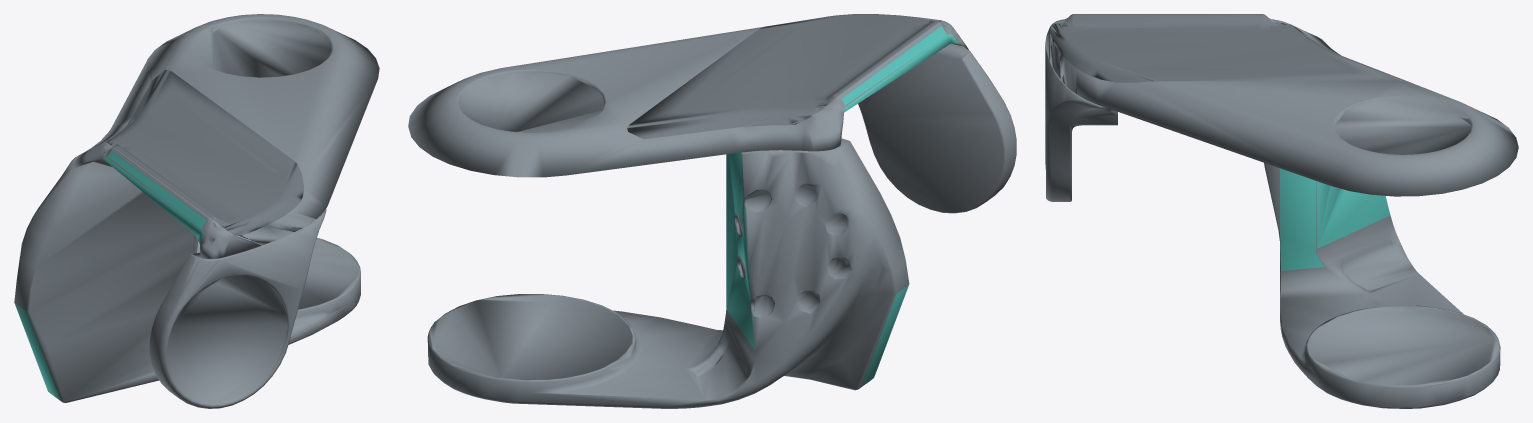
File: LeftHipYawLink.obj
3 renders of one model, left to right at view 1: azimuth 30°, elevation 25°; view 2: azimuth 150°, elevation 25°; view 3: azimuth 270°, elevation 25°, orthographic. The views are drawn at different scales.
Parts seen in each view (by area): view 1: LeftHipYawLink_Material__60, LeftHipYawLink_Material__64, LeftHipYawLink_Material__63; view 2: LeftHipYawLink_Material__60, LeftHipYawLink_Material__64, LeftHipYawLink_Material__63; view 3: LeftHipYawLink_Material__60, LeftHipYawLink_Material__64, LeftHipYawLink_Material__63.
Boxes of the visible parts, x1=… form: LeftHipYawLink_Material__60: x1=14, y1=14, x2=379, y2=408; LeftHipYawLink_Material__64: x1=106, y1=70, x2=304, y2=235; LeftHipYawLink_Material__63: x1=14, y1=151, x2=206, y2=400; LeftHipYawLink_Material__60: x1=408, y1=20, x2=1016, y2=408; LeftHipYawLink_Material__64: x1=627, y1=14, x2=941, y2=139; LeftHipYawLink_Material__63: x1=726, y1=26, x2=958, y2=387; LeftHipYawLink_Material__60: x1=1045, y1=16, x2=1518, y2=408; LeftHipYawLink_Material__64: x1=1050, y1=14, x2=1408, y2=82; LeftHipYawLink_Material__63: x1=1280, y1=168, x2=1390, y2=270.
Size of the model in its own units: 0.1932 by 0.1178 by 0.202.
